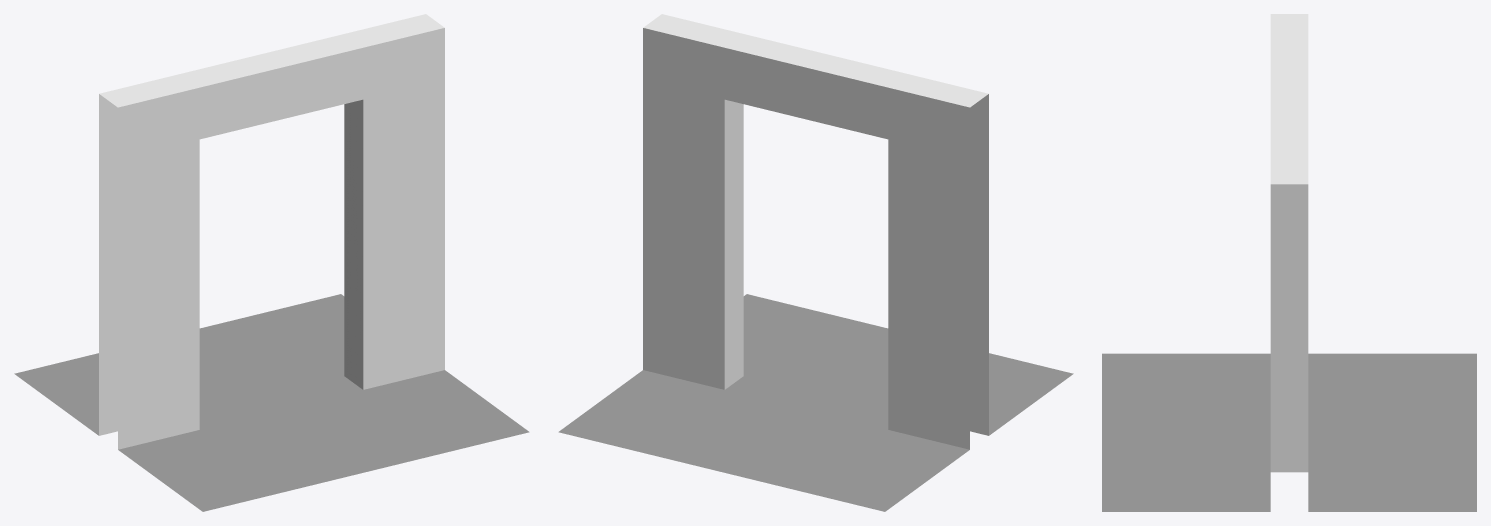
File: I_Wall_Straight_Door.fbx
3 views of the same model, side by side, from view 1: azimuth 30°, elevation 25°; view 2: azimuth 150°, elevation 25°; view 3: azimuth 270°, elevation 25° (orthographic).
Visible parts, largest first — view 1: I_Wall_Straight_Door; view 2: I_Wall_Straight_Door; view 3: I_Wall_Straight_Door.
Boxes of the visible parts, <box> form: I_Wall_Straight_Door: <box>14,14,529,511</box>; I_Wall_Straight_Door: <box>558,14,1073,511</box>; I_Wall_Straight_Door: <box>1102,14,1476,511</box>.
Size of the model in its own units: 200 by 200 by 200.
